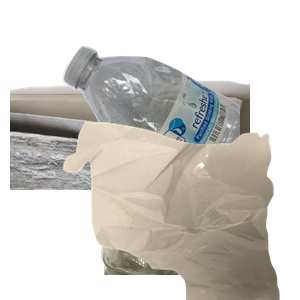glass: (98, 120, 286, 300)
paper: (10, 77, 250, 257)
plastic: (60, 44, 300, 224)
trash: (61, 120, 300, 300)
